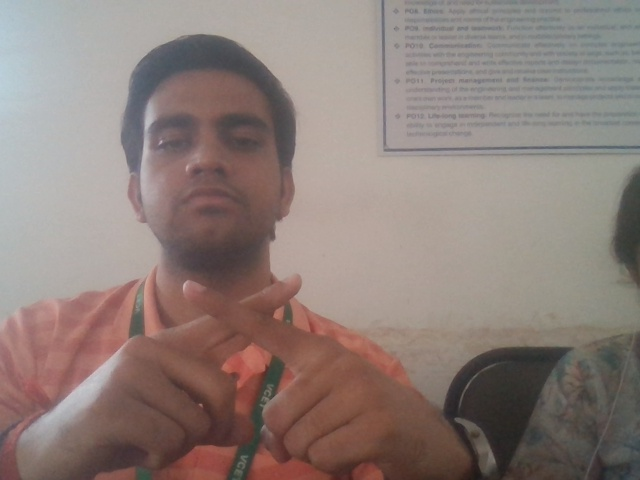No: (14, 263, 574, 480)
